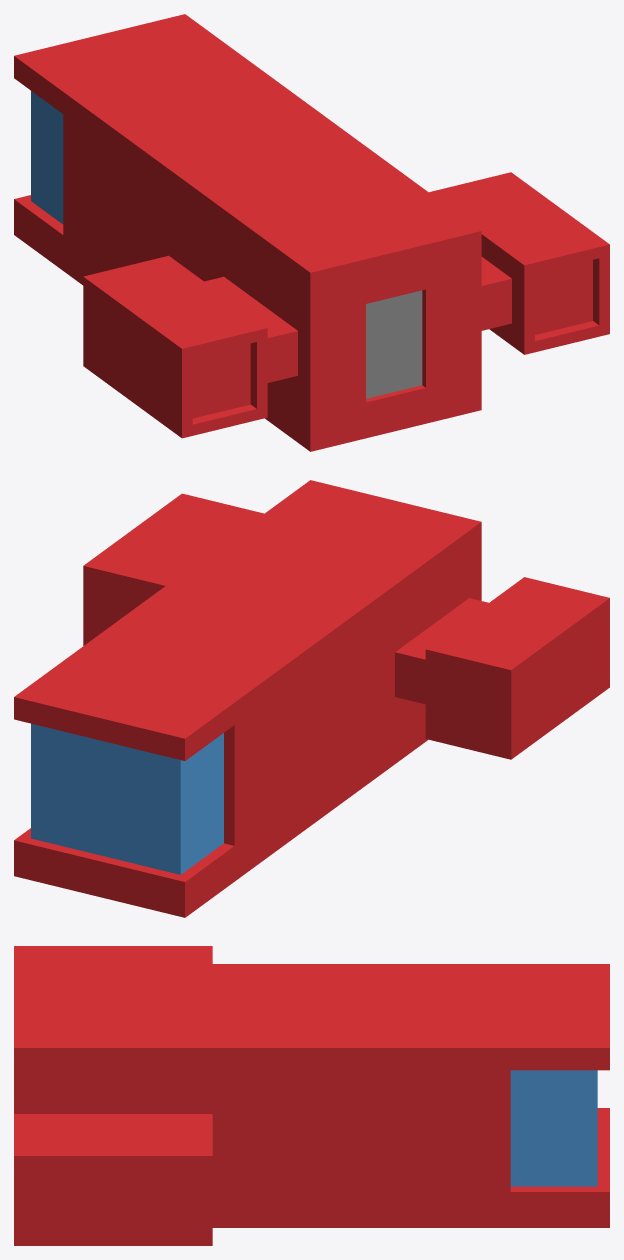
Rendered from Ship_Out.glb.
3 views of the same model, one above another, from view 1: azimuth 30°, elevation 25°; view 2: azimuth 150°, elevation 25°; view 3: azimuth 270°, elevation 25° (orthographic).
Visible parts, largest first — view 1: Ship_Out; view 2: Ship_Out; view 3: Ship_Out.
Part boxes in pixels (bbox=[...]): Ship_Out: bbox=[14, 14, 609, 451]; Ship_Out: bbox=[14, 480, 609, 917]; Ship_Out: bbox=[14, 946, 609, 1245].
Bounding box in the file's own units: 10 × 4 × 12.
